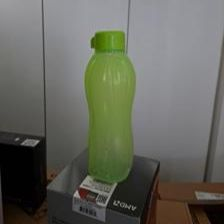bottle: (82, 26, 137, 183)
